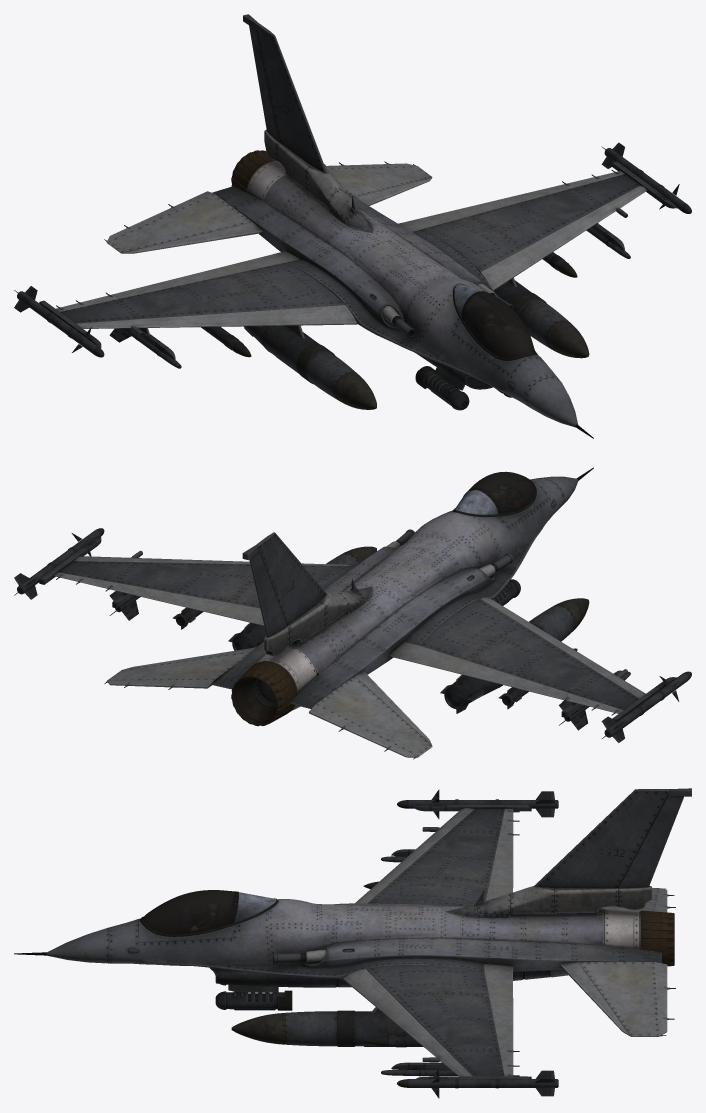
3 views of the same model, one above another, from view 1: azimuth 30°, elevation 25°; view 2: azimuth 150°, elevation 25°; view 3: azimuth 270°, elevation 25° (orthographic). The views are drawn at different scales.
Parts seen in each view (by area): view 1: part_b.11_11, part_a.10_10, missiles_big_r.20_20, glass.27_27, missiles_big_l.15_15, missiles_mid_r2.17_17, missiles_mid_l2.14_14; view 2: part_b.11_11, part_a.10_10, missiles_big_r.20_20, glass.27_27, missiles_mid_r2.17_17, missiles_big_l.15_15, missiles_mid_l2.14_14, missiles_mid_r1.18_18; view 3: part_b.11_11, part_a.10_10, missiles_big_l.15_15, glass.27_27, missiles_mid_l2.14_14, missiles_mid_r2.17_17, missiles_mid_l.16_16.
Part boxes in pixels (left/top/right/bottom): part_b.11_11: left=39, top=14, right=677, bottom=438; part_a.10_10: left=139, top=129, right=599, bottom=410; missiles_big_r.20_20: left=243, top=325, right=376, bottom=409; glass.27_27: left=463, top=292, right=535, bottom=358; missiles_big_l.15_15: left=494, top=280, right=589, bottom=358; missiles_mid_r2.17_17: left=14, top=286, right=104, bottom=357; missiles_mid_l2.14_14: left=601, top=142, right=691, bottom=213; part_b.11_11: left=39, top=467, right=676, bottom=759; part_a.10_10: left=123, top=490, right=575, bottom=704; missiles_big_r.20_20: left=440, top=598, right=589, bottom=713; glass.27_27: left=468, top=471, right=535, bottom=513; missiles_mid_r2.17_17: left=601, top=671, right=691, bottom=742; missiles_big_l.15_15: left=228, top=546, right=376, bottom=650; missiles_mid_l2.14_14: left=14, top=528, right=104, bottom=599; missiles_mid_r1.18_18: left=559, top=671, right=630, bottom=730; part_b.11_11: left=14, top=788, right=691, bottom=1078; part_a.10_10: left=210, top=885, right=652, bottom=1063; missiles_big_l.15_15: left=231, top=1010, right=409, bottom=1046; glass.27_27: left=142, top=890, right=235, bottom=934; missiles_mid_l2.14_14: left=397, top=1068, right=558, bottom=1098; missiles_mid_r2.17_17: left=397, top=790, right=558, bottom=818; missiles_mid_l.16_16: left=364, top=1034, right=423, bottom=1047.
Bounding box in the file's own units: 13.74 × 4.61 × 13.63.
Materials: 25 (25 with a texture image).
